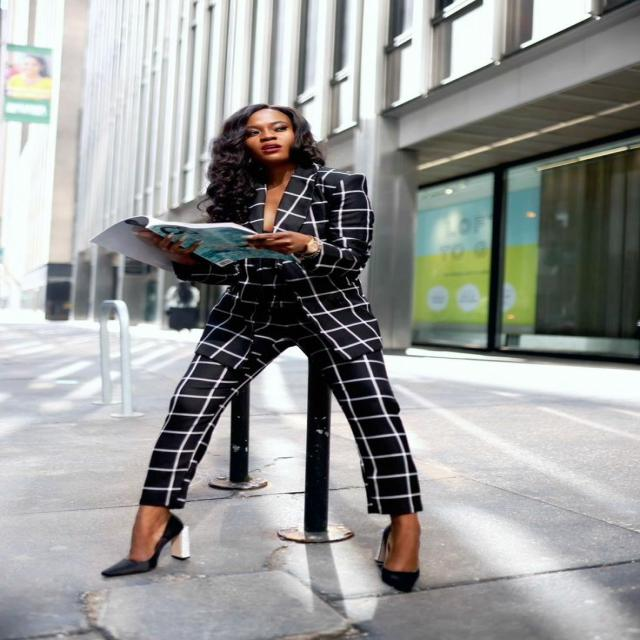male-dress: (185, 177, 421, 520)
